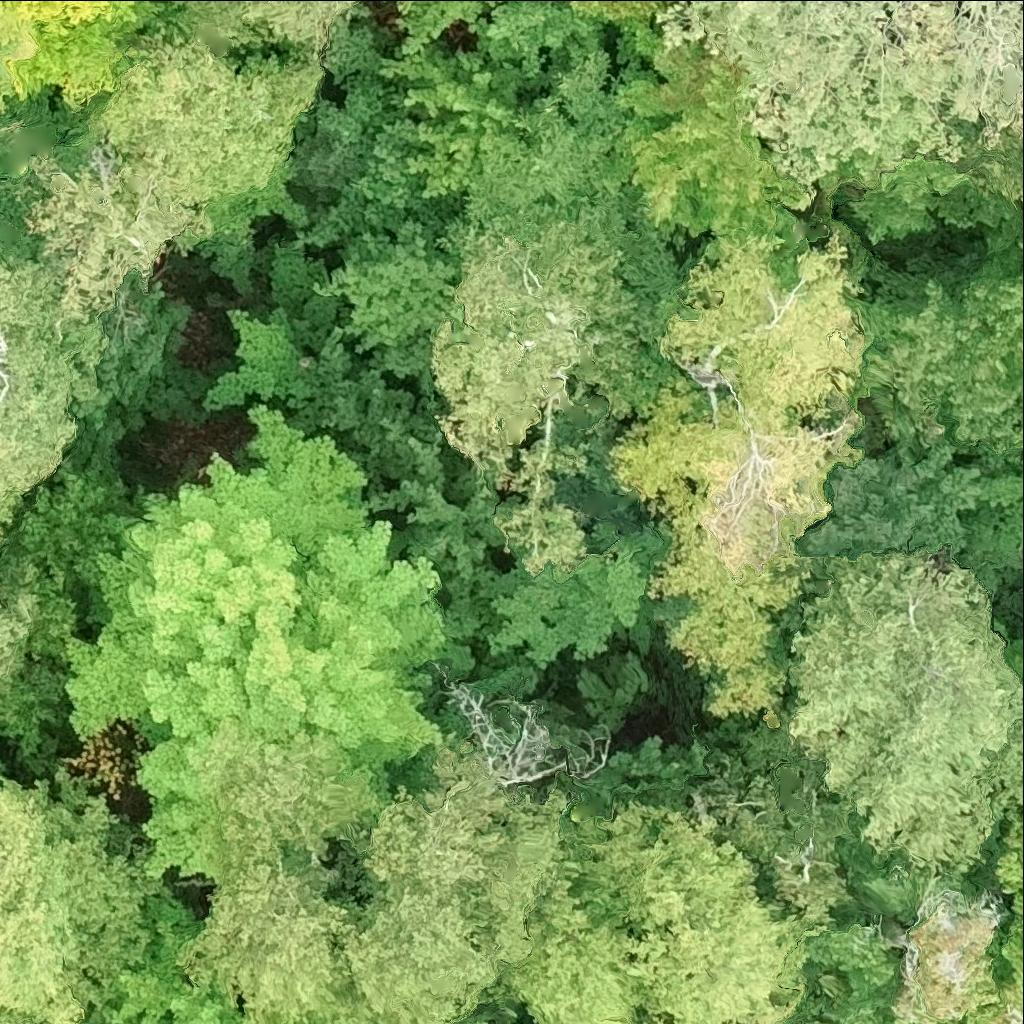crown: (70, 409, 440, 880), (604, 235, 863, 719), (22, 45, 326, 328), (309, 739, 584, 1023), (791, 558, 1023, 873), (490, 810, 819, 1023), (434, 227, 624, 577), (176, 722, 394, 1023), (667, 0, 1023, 171), (614, 21, 818, 258), (0, 773, 166, 1023), (848, 271, 1023, 462), (492, 515, 682, 666), (67, 884, 257, 1023), (0, 264, 102, 509), (309, 217, 463, 356), (795, 455, 981, 560), (0, 0, 141, 114), (846, 154, 1019, 242), (451, 670, 566, 794), (892, 893, 998, 1023), (188, 0, 359, 58), (392, 0, 505, 53), (931, 986, 1019, 1023), (999, 888, 1023, 1016), (0, 591, 31, 677), (0, 42, 18, 110), (0, 491, 16, 526), (453, 1012, 485, 1023), (1011, 1011, 1023, 1023), (1020, 185, 1023, 203), (413, 1018, 419, 1023)
